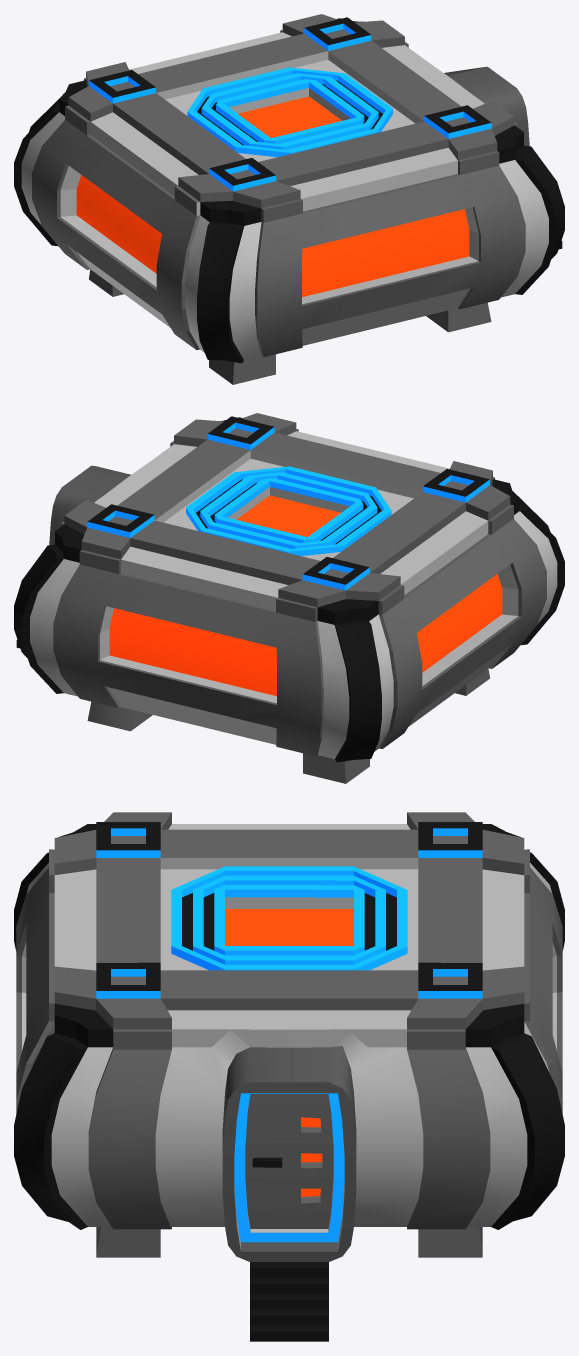
File: Pod.fbx
3 renders of one model, top to bottom at view 1: azimuth 30°, elevation 25°; view 2: azimuth 150°, elevation 25°; view 3: azimuth 270°, elevation 25°, orthographic. The views are drawn at different scales.
Parts seen in each view (by area): view 1: Box001; view 2: Box001; view 3: Box001.
Part boxes in pixels (<box>): Box001: <box>14,14,564,384</box>; Box001: <box>14,413,564,783</box>; Box001: <box>14,812,564,1341</box>.
Bounding box in the file's own units: 58.55 × 25.19 × 47.16.
